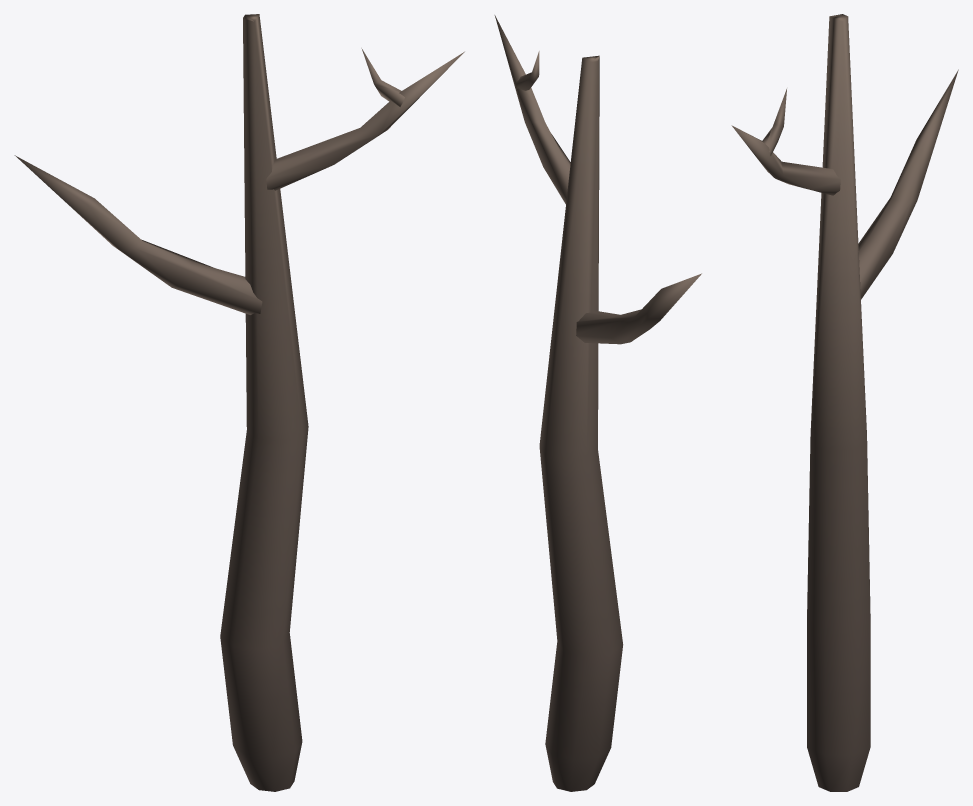
The model's file is guardian_treant_trunk-mid.glb.
The picture shows the model from 3 angles, left to right: view 1: azimuth 30°, elevation 25°; view 2: azimuth 150°, elevation 25°; view 3: azimuth 270°, elevation 25°; orthographic projection. The views are drawn at different scales.
Parts seen in each view (by area): view 1: tree_dead_large; view 2: tree_dead_large; view 3: tree_dead_large.
Boxes of the visible parts, box(x1,y1,x2,y2) form: tree_dead_large: box(14, 14, 464, 791); tree_dead_large: box(494, 15, 701, 791); tree_dead_large: box(731, 14, 958, 791).
Size of the model in its own units: 2.3 by 5.04 by 1.38.
Materials: 1 (1 with a texture image).
